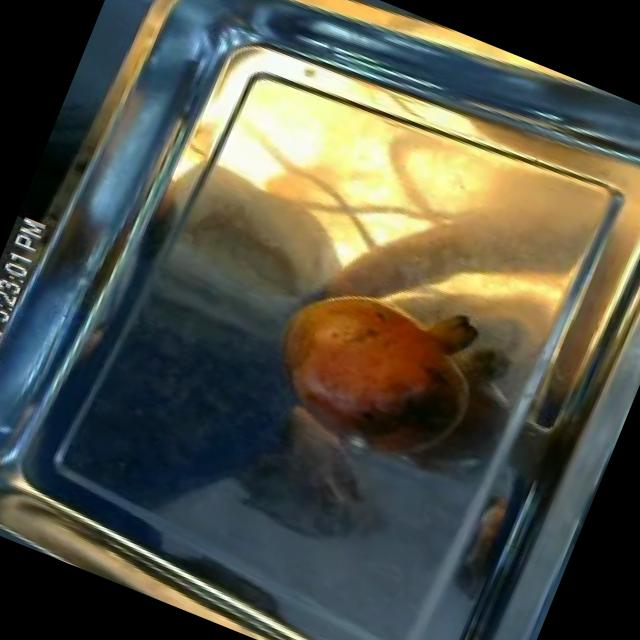fruit: (236, 253, 508, 492)
